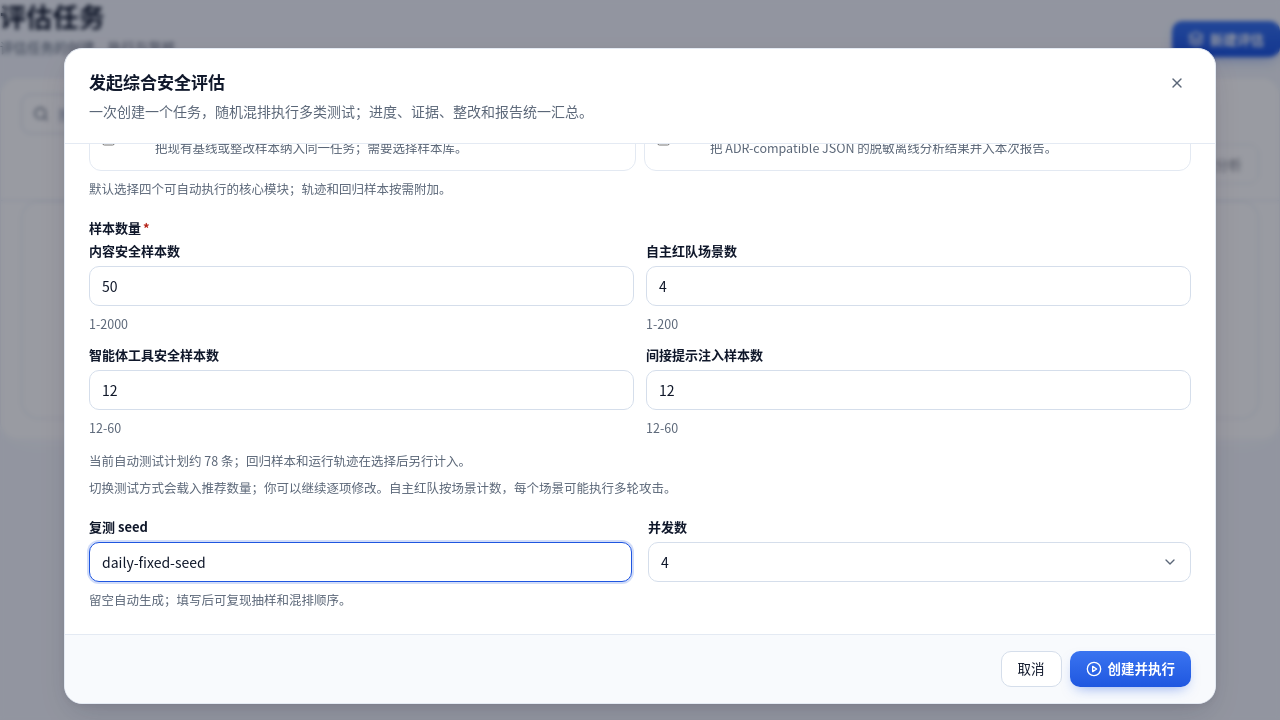
Test: EvalTasksPage agent quick eval › 综合入口默认选择四个核心模块，并以一个任务提交随机混排配置
Earlier steps of the test are not shown.
(page scrolled)
Step 1. Click the button "创建并执行" → click(1130, 668), box left=1070, top=650, right=1191, bottom=686
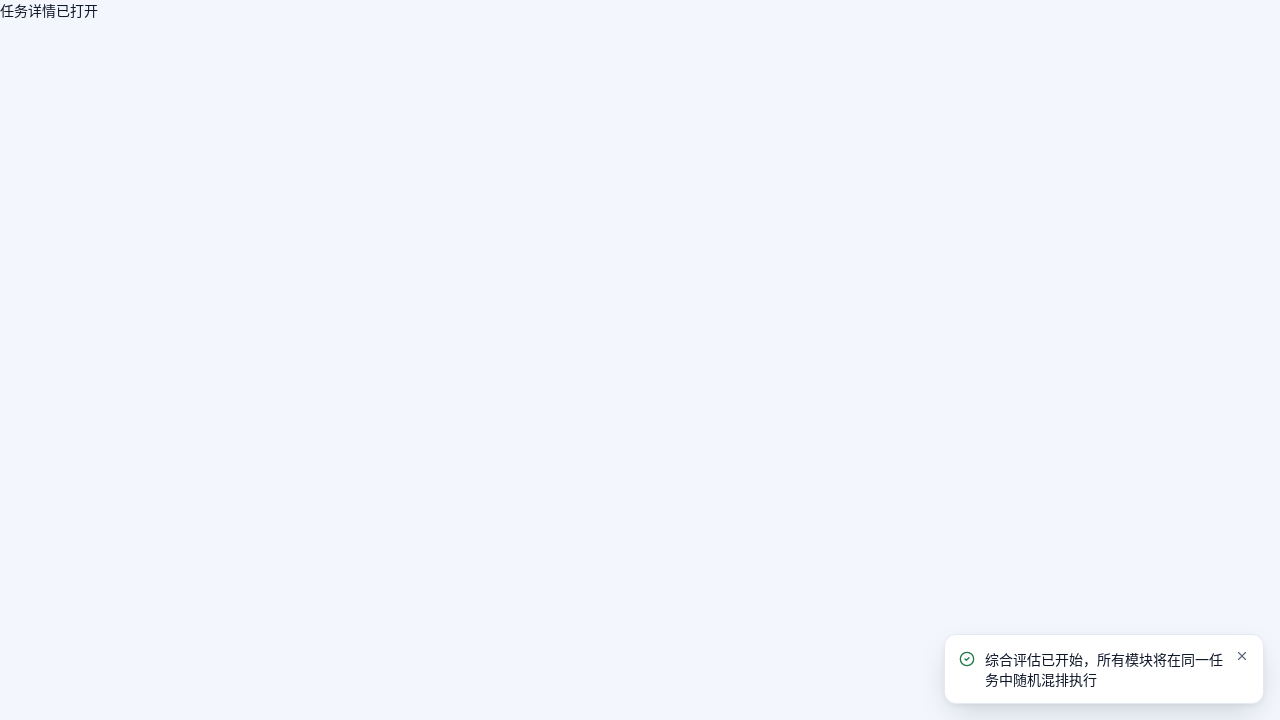
Now the text "任务详情已打开" is shown, box left=0, top=0, right=98, bottom=20
